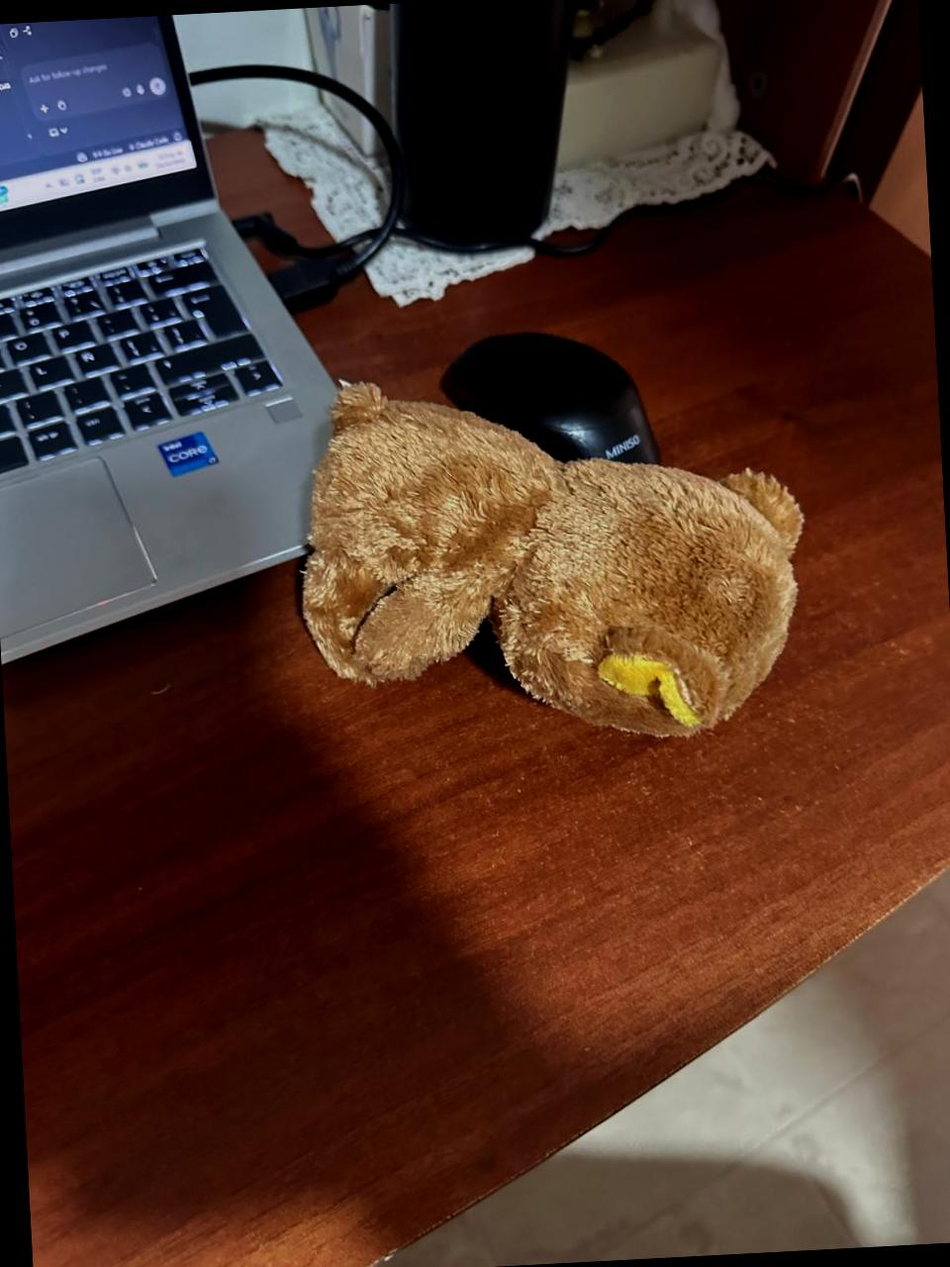peluche_sebastian: (284, 366, 832, 759)
